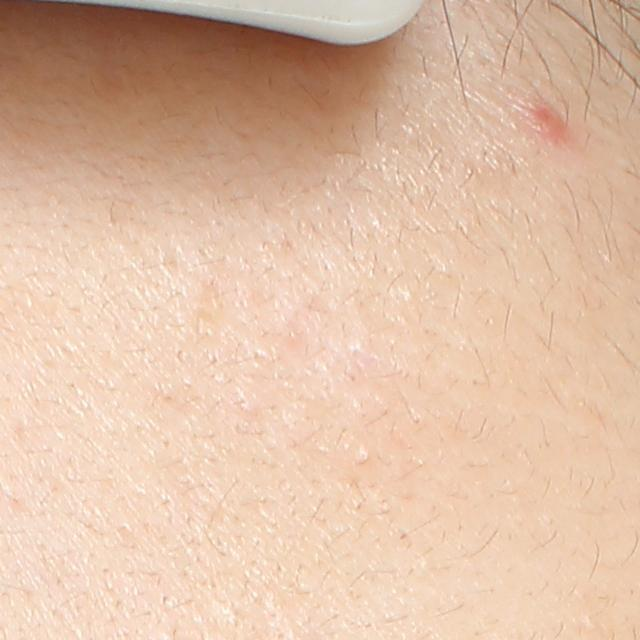papule: (521, 97, 569, 145)
